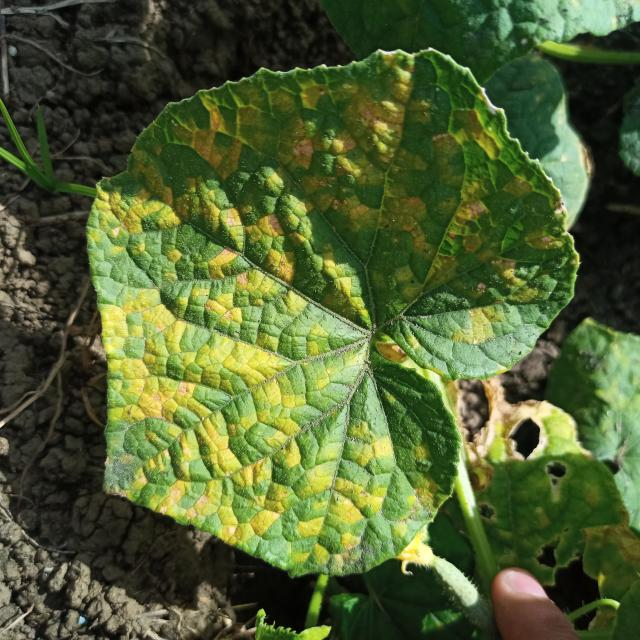disease_cucumber: (90, 61, 540, 563)
